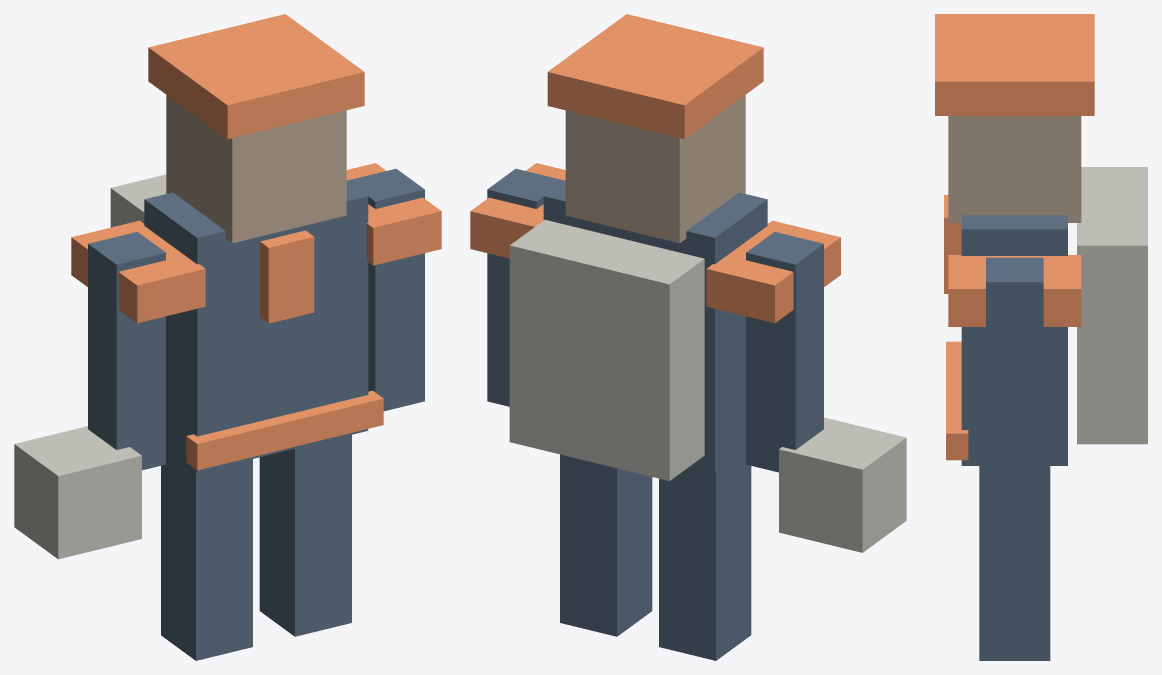
File: 05_ilyra_starfall_courier_at_cargo.glb
3 views of the same model, side by side, from view 1: azimuth 30°, elevation 25°; view 2: azimuth 150°, elevation 25°; view 3: azimuth 270°, elevation 25° (orthographic).
Parts seen in each view (by area): view 1: Ilyra Starfall, Courier at Cargo; view 2: Ilyra Starfall, Courier at Cargo; view 3: Ilyra Starfall, Courier at Cargo.
Part boxes in pixels (<box>): Ilyra Starfall, Courier at Cargo: <box>14,14,441,660</box>; Ilyra Starfall, Courier at Cargo: <box>470,14,906,660</box>; Ilyra Starfall, Courier at Cargo: <box>935,14,1147,660</box>.
Bounding box in the file's own units: 0.9688 × 1.39 × 0.4673.
